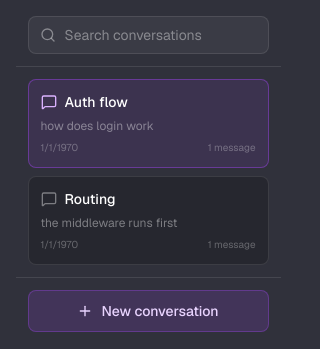
Scenario: ConversationList › filters by title
Type "rout" into the search field labelled "Search conversations".
click(148, 35); type("rout")  # box [28,16,268,54]
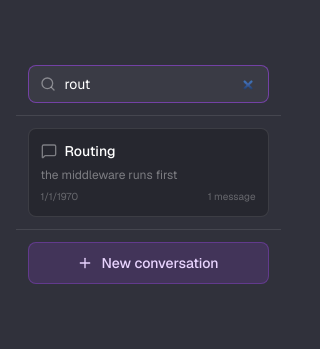
Expected: the text "Routing" is shown, [64,142,116,160]
Now the button "Auth flow" is gone
